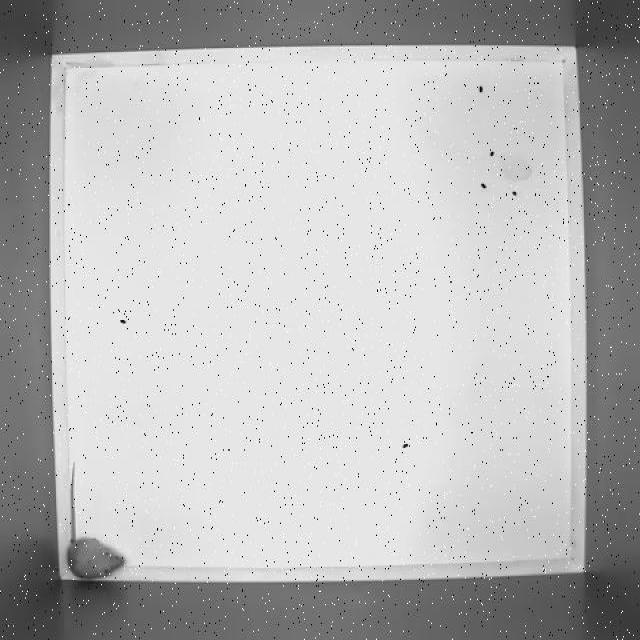rat: (63, 459, 131, 582)
